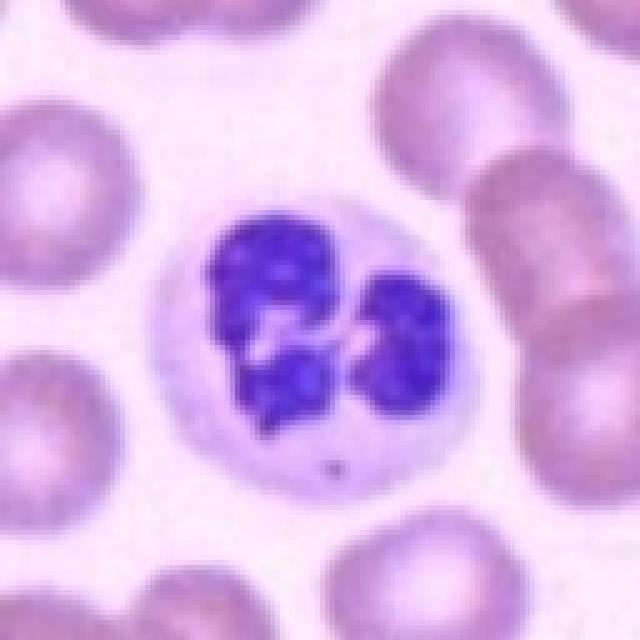neutro: (102, 178, 568, 545)
